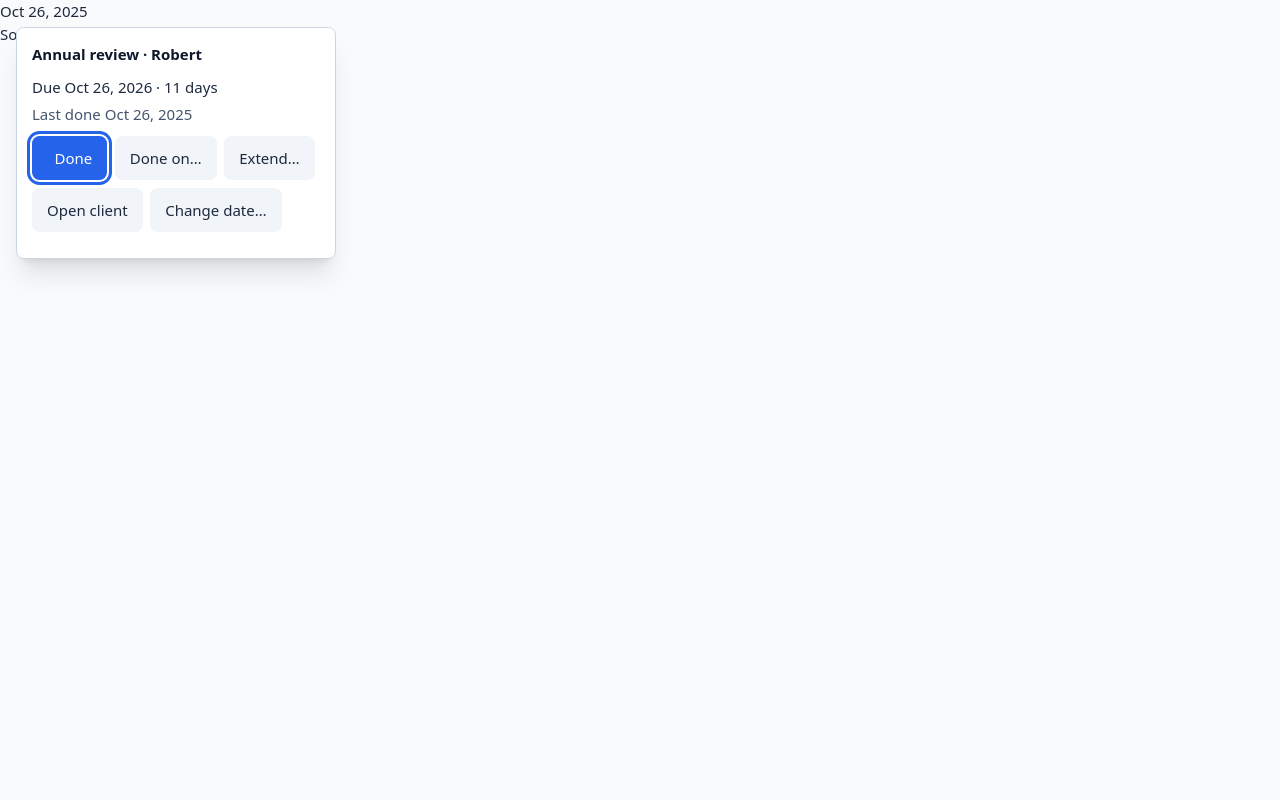
the grid deadline card › Done marks it, redraws the list's colours and closes
Click the button with aria-label "Mark Annual review done for Robert" at (70, 158), box [32, 136, 107, 180]
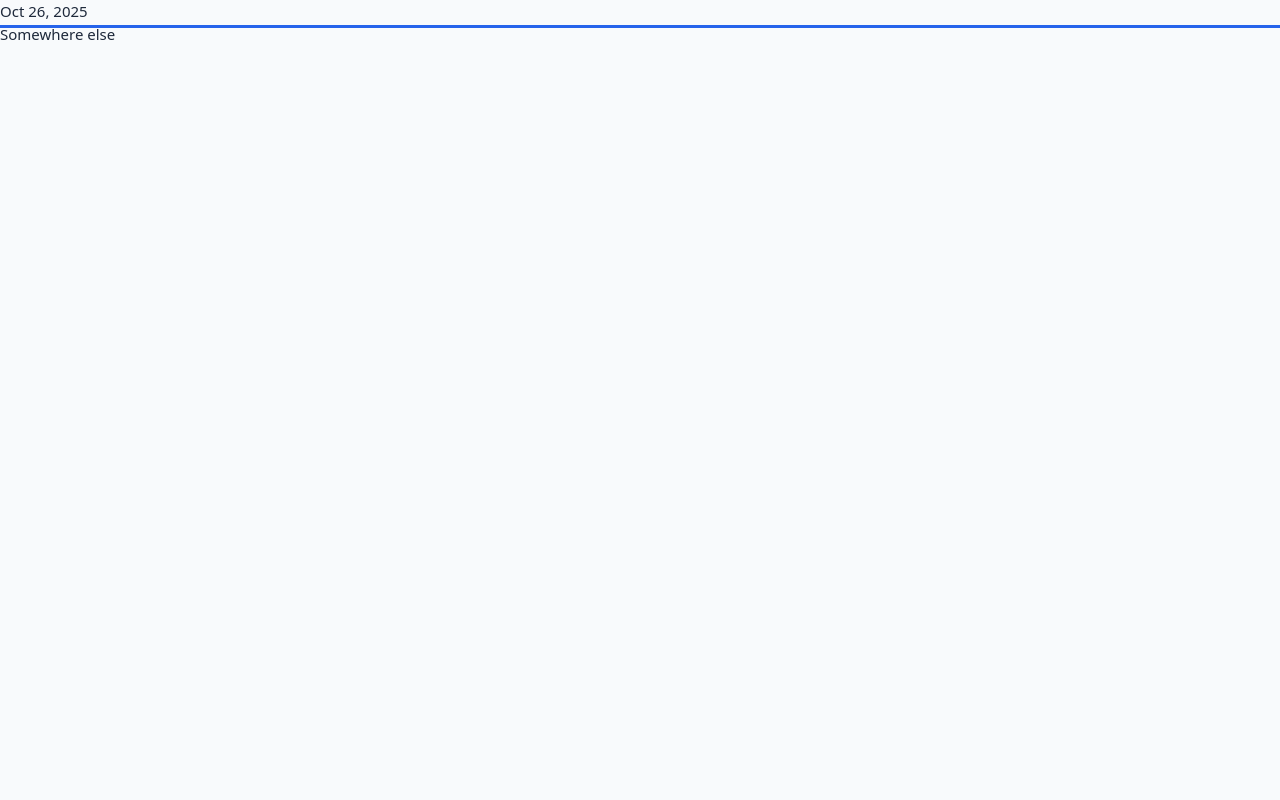
Check: the dialog is gone
